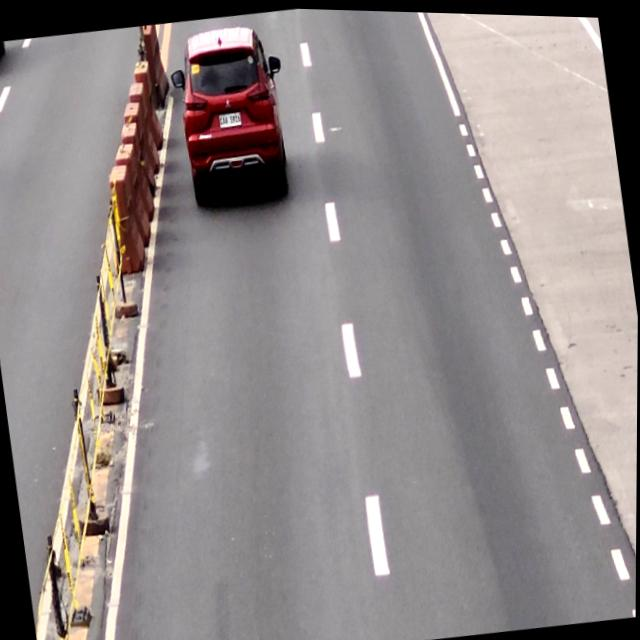Car: (165, 18, 300, 212)
License-Plate: (219, 110, 243, 127)
